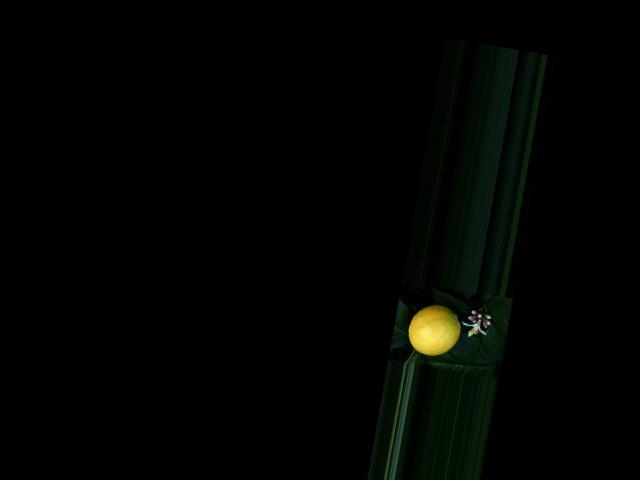lemon: (400, 300, 465, 362)
